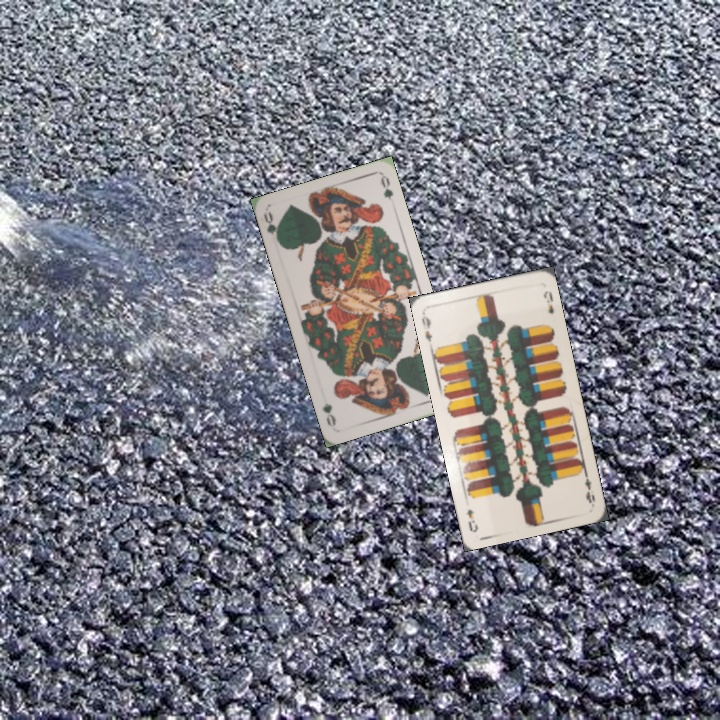E9: (580, 467, 598, 507), (418, 309, 434, 345)
GO: (260, 208, 284, 248)
